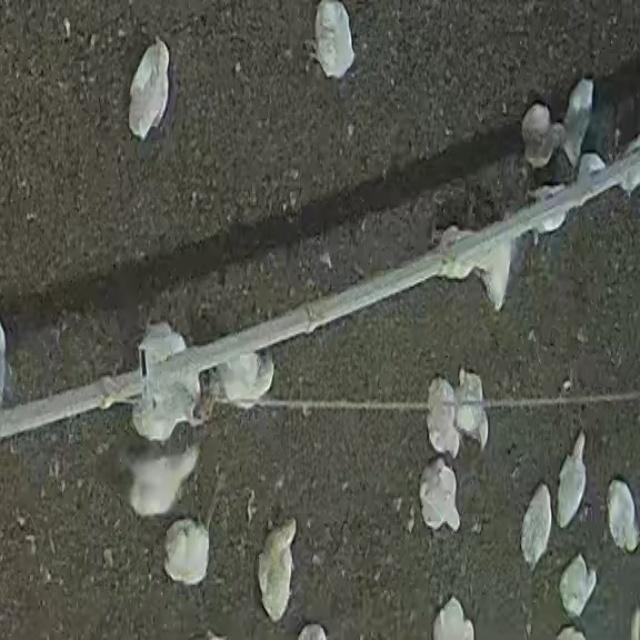chicken: (116, 33, 176, 143), (122, 440, 199, 518), (258, 519, 298, 622), (476, 230, 518, 316), (313, 0, 356, 83), (214, 352, 276, 407), (162, 518, 210, 588), (558, 78, 594, 170), (419, 458, 460, 534), (556, 435, 588, 527), (520, 483, 554, 568), (426, 376, 461, 458), (454, 368, 487, 447), (606, 478, 639, 554), (521, 104, 557, 168), (559, 554, 595, 618)
